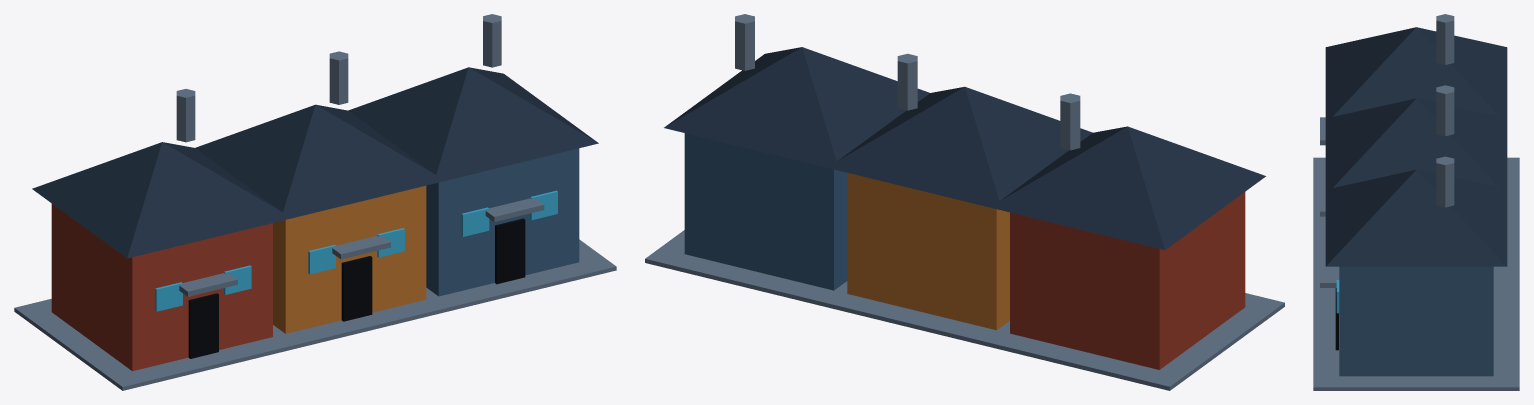
File: row-house.obj
3 renders of one model, left to right at view 1: azimuth 30°, elevation 25°; view 2: azimuth 150°, elevation 25°; view 3: azimuth 270°, elevation 25°, orthographic. The views are drawn at different scales.
Visible parts, largest first — view 1: Townhouse, Roof, Walkway, Door, Window, Chimney, Awning; view 2: Townhouse, Roof, Walkway, Chimney; view 3: Roof, Townhouse, Walkway, Chimney, Awning, Door.
Part boxes in pixels (x1,y1,x2,y2): Townhouse: [51, 148, 579, 371]; Roof: [32, 67, 598, 258]; Walkway: [14, 239, 616, 390]; Door: [188, 218, 525, 358]; Window: [155, 190, 557, 311]; Chimney: [176, 14, 501, 142]; Awning: [179, 198, 544, 296]; Townhouse: [684, 133, 1245, 369]; Roof: [664, 47, 1265, 250]; Walkway: [645, 230, 1284, 390]; Chimney: [735, 14, 1080, 150]; Roof: [1325, 27, 1507, 266]; Townhouse: [1339, 266, 1493, 376]; Walkway: [1313, 157, 1519, 390]; Chimney: [1436, 14, 1454, 207]; Awning: [1320, 117, 1339, 287]; Door: [1335, 288, 1338, 350].
Size of the model in its own units: 7.9 by 3.28 by 3.
